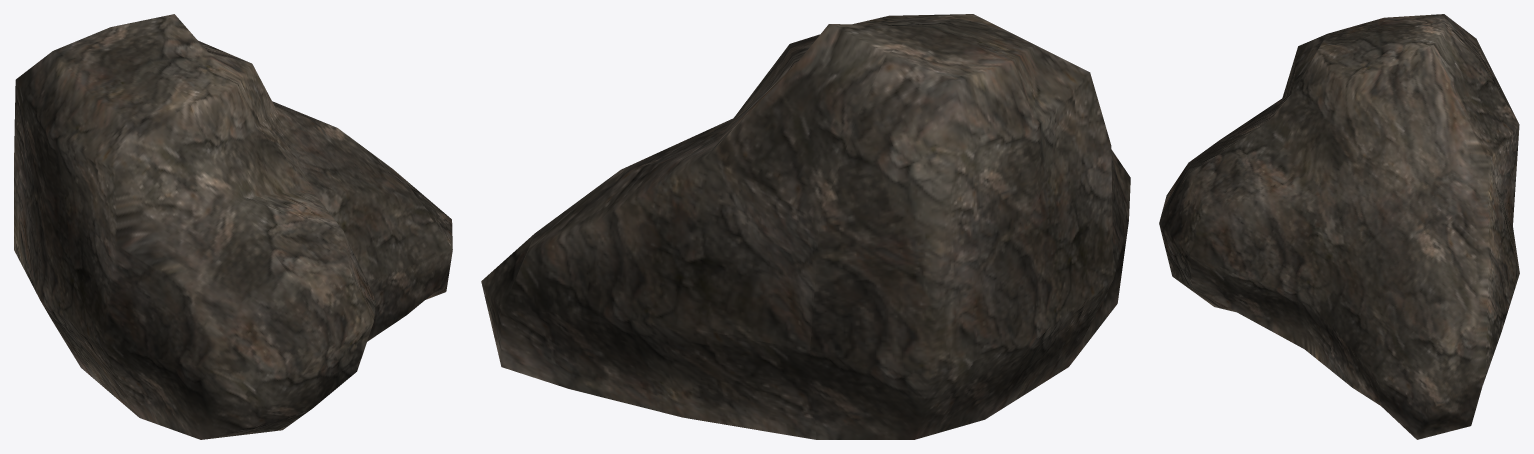
The model's file is Rock_03.glb.
3 renders of one model, left to right at view 1: azimuth 30°, elevation 25°; view 2: azimuth 150°, elevation 25°; view 3: azimuth 270°, elevation 25°, orthographic. The views are drawn at different scales.
Parts seen in each view (by area): view 1: Rock_03.001; view 2: Rock_03.001; view 3: Rock_03.001.
Part boxes in pixels (left/top/right/bottom): Rock_03.001: left=14, top=14, right=452, bottom=439; Rock_03.001: left=481, top=14, right=1130, bottom=439; Rock_03.001: left=1159, top=14, right=1519, bottom=439.
Size of the model in its own units: 6.08 by 4.6 by 5.18.
1 material, 1 textured.
